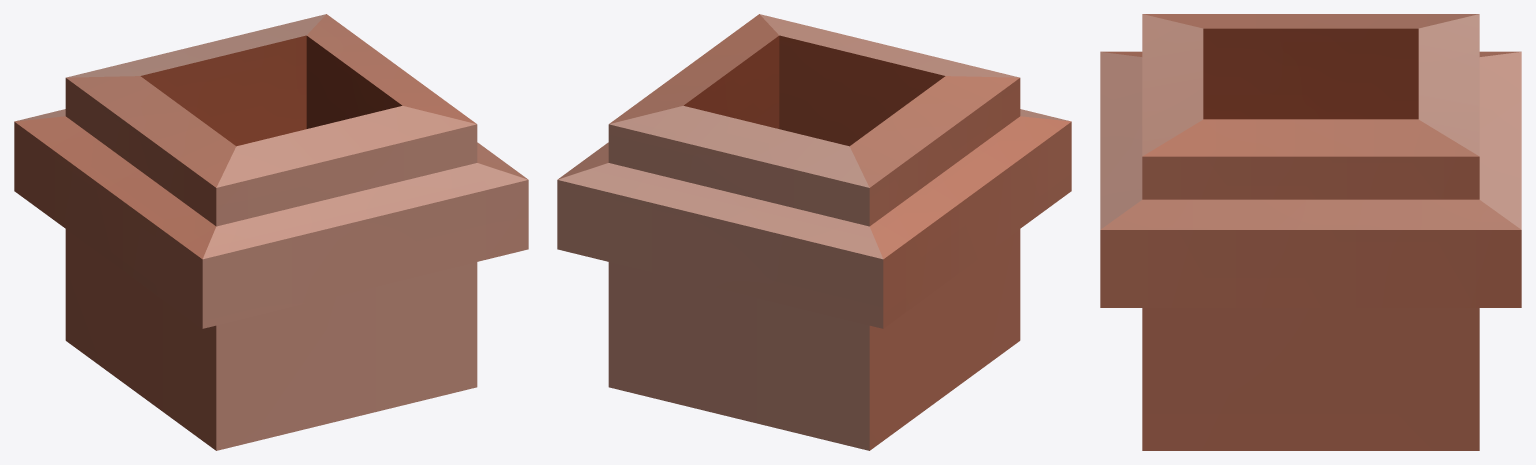
The model's file is ChimneyTop.fbx.
The picture shows the model from 3 angles, left to right: view 1: azimuth 30°, elevation 25°; view 2: azimuth 150°, elevation 25°; view 3: azimuth 270°, elevation 25°; orthographic projection. The views are drawn at different scales.
Parts seen in each view (by area): view 1: ChimneyTop; view 2: ChimneyTop; view 3: ChimneyTop.
Boxes of the visible parts, <box> form: ChimneyTop: <box>14,14,528,450</box>; ChimneyTop: <box>557,14,1071,450</box>; ChimneyTop: <box>1100,14,1521,450</box>.
Size of the model in its own units: 0.5 by 0.4 by 0.5.
